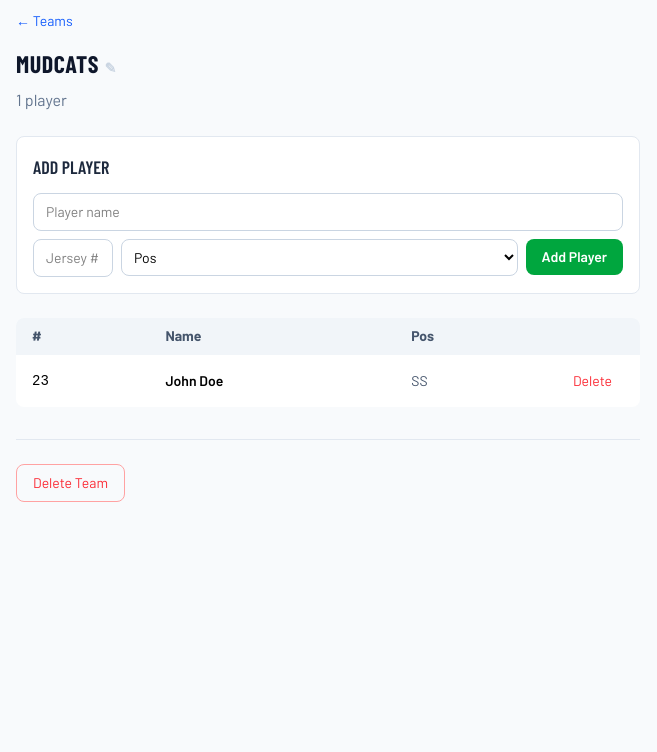
Scenario: TeamDetailPage › Player Editing › allows editing a player by clicking their row
The image size is (657, 752).
// Click on the player row to start editing
Click the text "John Doe". click: (194, 380)
box: [149, 354, 395, 407]
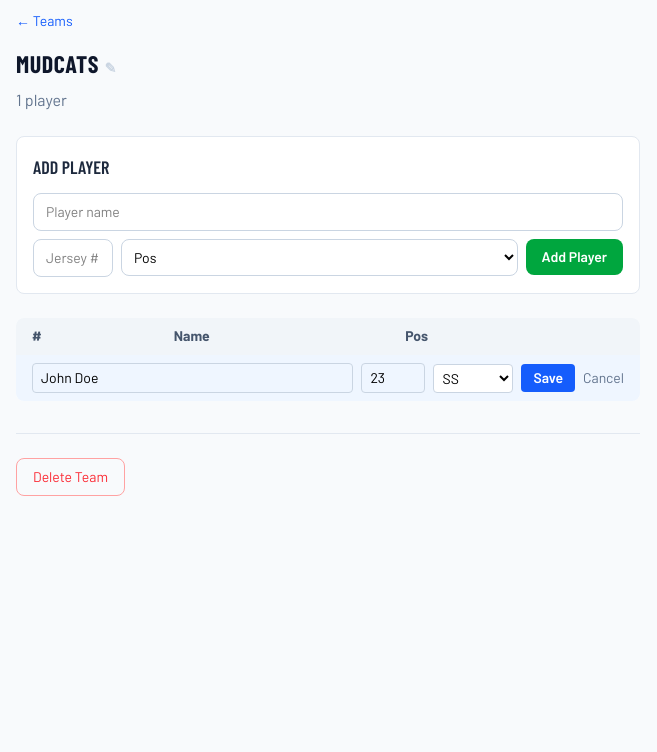
Expected: the 1st field showing "John Doe" is shown
Expected: the 2nd field showing "23" is shown, [362, 363, 426, 393]
// Change the name
Replace the text in the 1st field showing "John Doe" with "Jane Smith". click: (193, 378)
box: [32, 363, 354, 393]
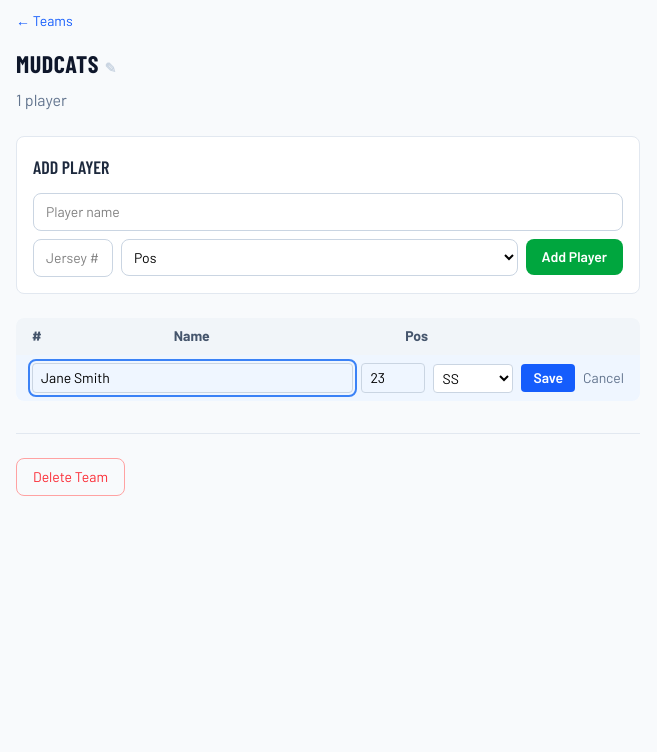
// Click Save
Click the button "Save". click: (548, 378)
box: [522, 364, 575, 392]
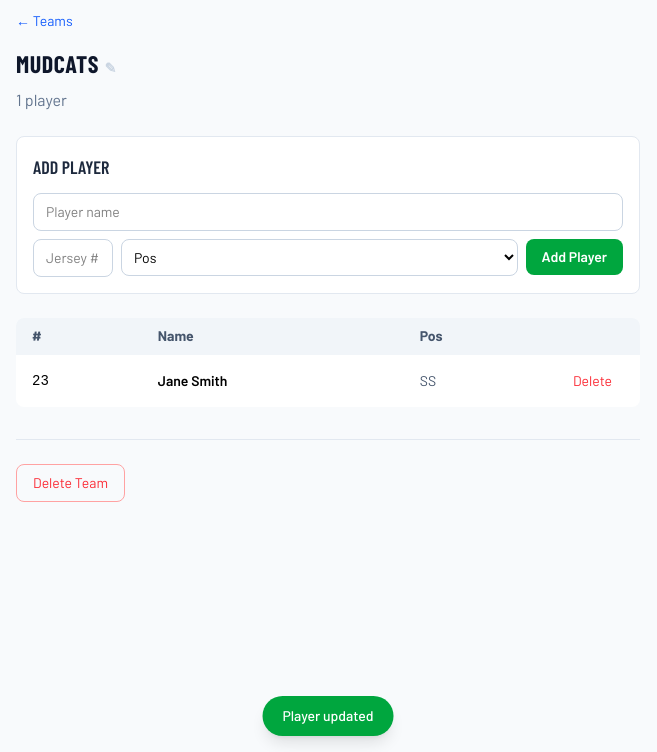
Expected: the text "John Doe" is not shown
Expected: the text "Jane Smith" is shown, [142, 354, 404, 407]
